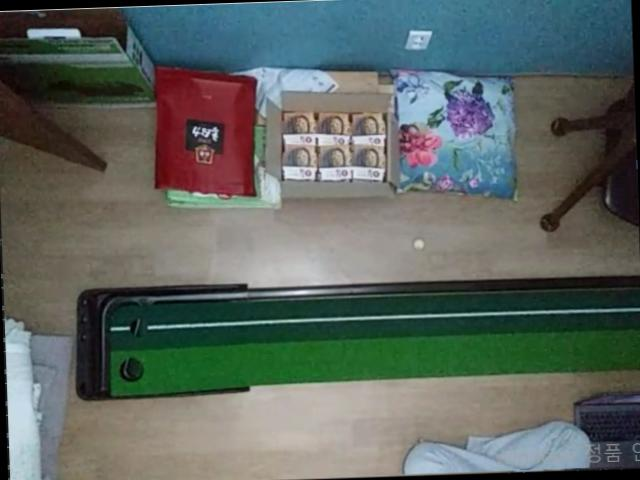golf_ball: (411, 237, 426, 252)
green_zone: (109, 288, 640, 396)
hole: (119, 357, 144, 383), (130, 318, 148, 338)
